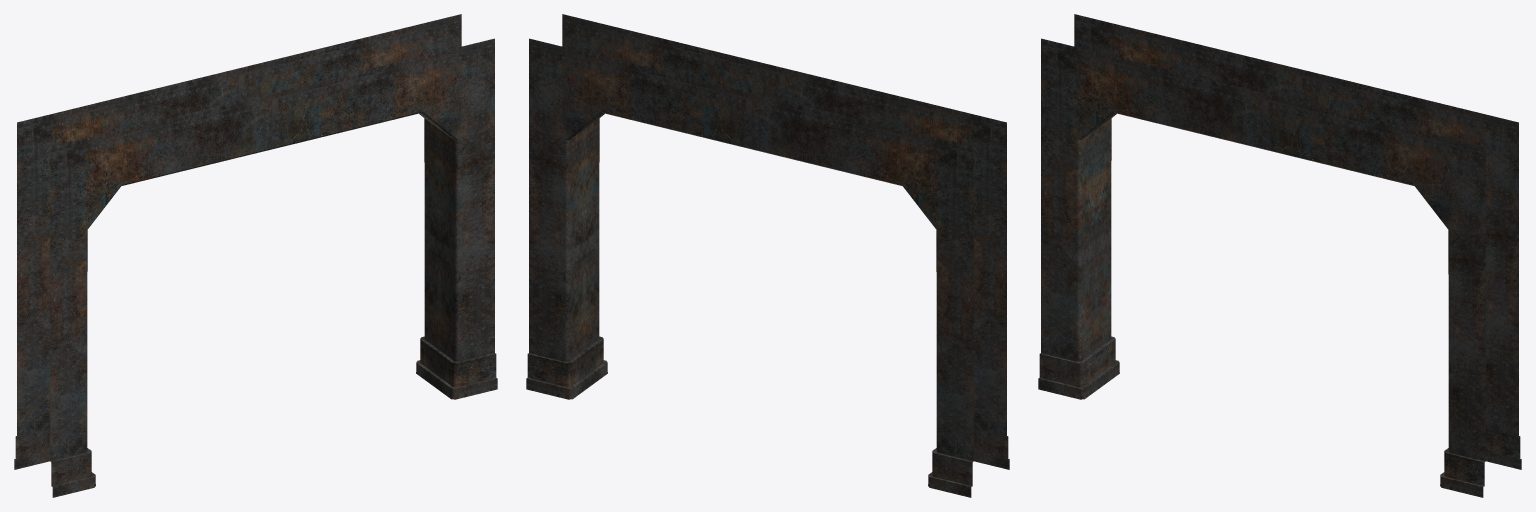
File: Basement_Corridor_C_Gate_4m.glb
3 renders of one model, left to right at view 1: azimuth 30°, elevation 25°; view 2: azimuth 150°, elevation 25°; view 3: azimuth 330°, elevation 25°, orthographic.
Parts seen in each view (by area): view 1: Basement_Corridor_C_Gate_4m; view 2: Basement_Corridor_C_Gate_4m; view 3: Basement_Corridor_C_Gate_4m.
Part boxes in pixels (left/top/right/bottom): Basement_Corridor_C_Gate_4m: left=14, top=14, right=497, bottom=497; Basement_Corridor_C_Gate_4m: left=526, top=14, right=1009, bottom=497; Basement_Corridor_C_Gate_4m: left=1038, top=14, right=1521, bottom=497.
Bounding box in the file's own units: 4 × 3 × 0.595.
1 material, 1 textured.
